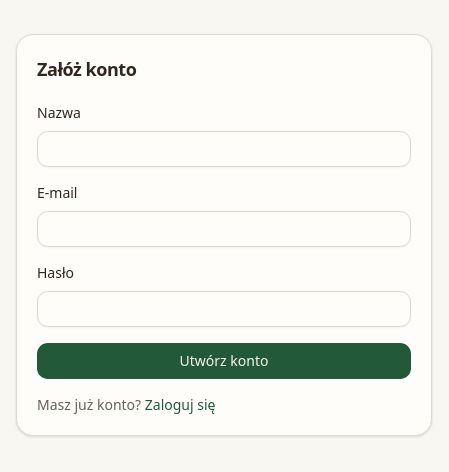
logowanie i rejestracja › pokazuje błąd rejestracji spoza ApiError
The width and height of the screenshot is (449, 472).
Type "Jan" into the field with test id "register-name" at (224, 149), box [37, 131, 411, 167]
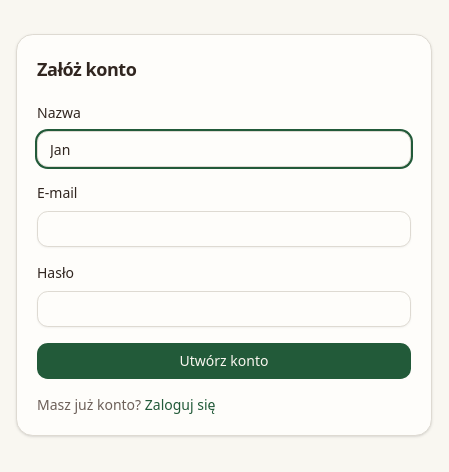
Type "jan@example.com" into the field with test id "register-email" at (224, 229), box [37, 211, 411, 247]
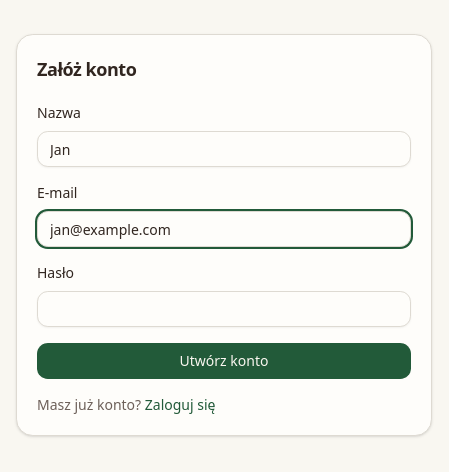
Type "haslo1234" into the password field with test id "register-password" at (224, 309), box [37, 291, 411, 327]
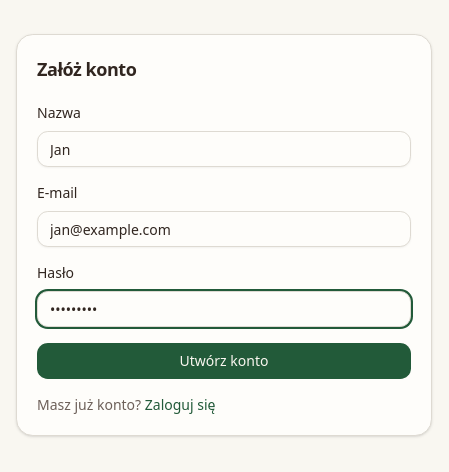
Click the button with test id "register-submit" at (224, 361), box [37, 343, 411, 379]
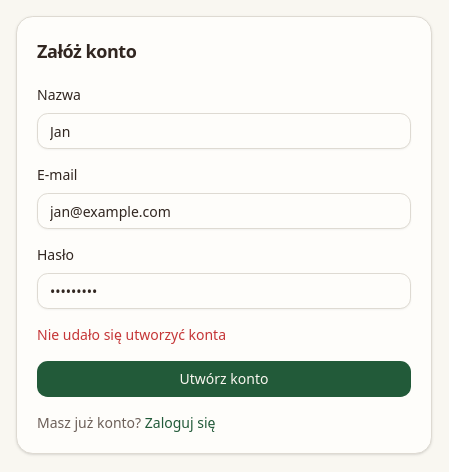
Expected: the text with test id "register-error" reads "Nie udało się utworzyć konta", [37, 325, 226, 344]
